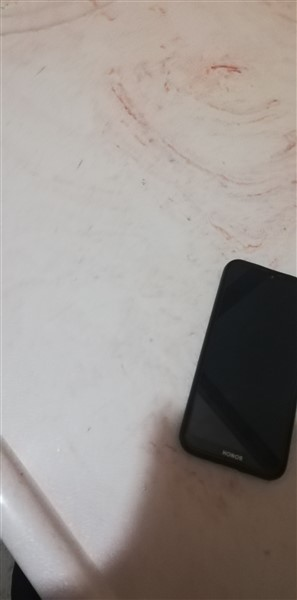telefon: (172, 252, 297, 491)
